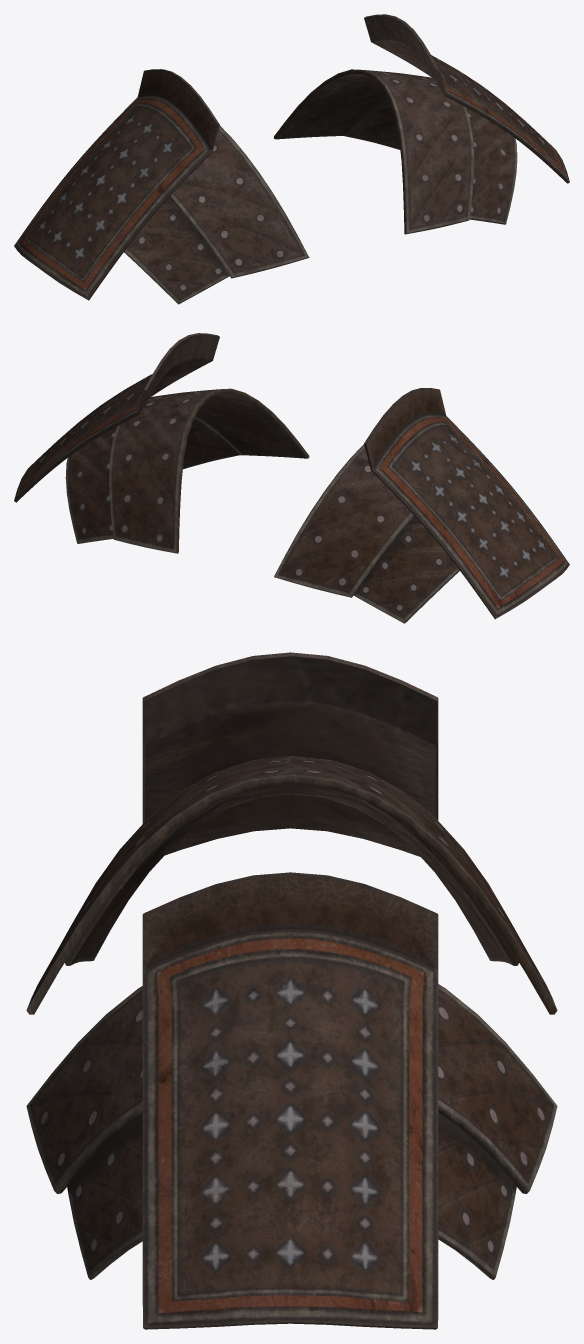
The model's file is sk_dwarf_iron_pauldron_med_c.fbx.
The picture shows the model from 3 angles, top to bottom: view 1: azimuth 30°, elevation 25°; view 2: azimuth 150°, elevation 25°; view 3: azimuth 270°, elevation 25°; orthographic projection. The views are drawn at different scales.
Parts seen in each view (by area): view 1: sk_dwarf_iron_pauldron_med_c; view 2: sk_dwarf_iron_pauldron_med_c; view 3: sk_dwarf_iron_pauldron_med_c.
Part boxes in pixels (<box>): sk_dwarf_iron_pauldron_med_c: <box>14,14,569,304</box>; sk_dwarf_iron_pauldron_med_c: <box>14,333,569,623</box>; sk_dwarf_iron_pauldron_med_c: <box>26,652,557,1329</box>.
Size of the model in its own units: 0.7862 by 0.3537 by 0.2629.
Materials: 1 (1 with a texture image).
